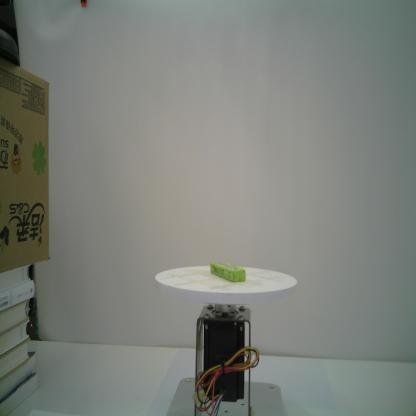Gum: (209, 261, 246, 283)
